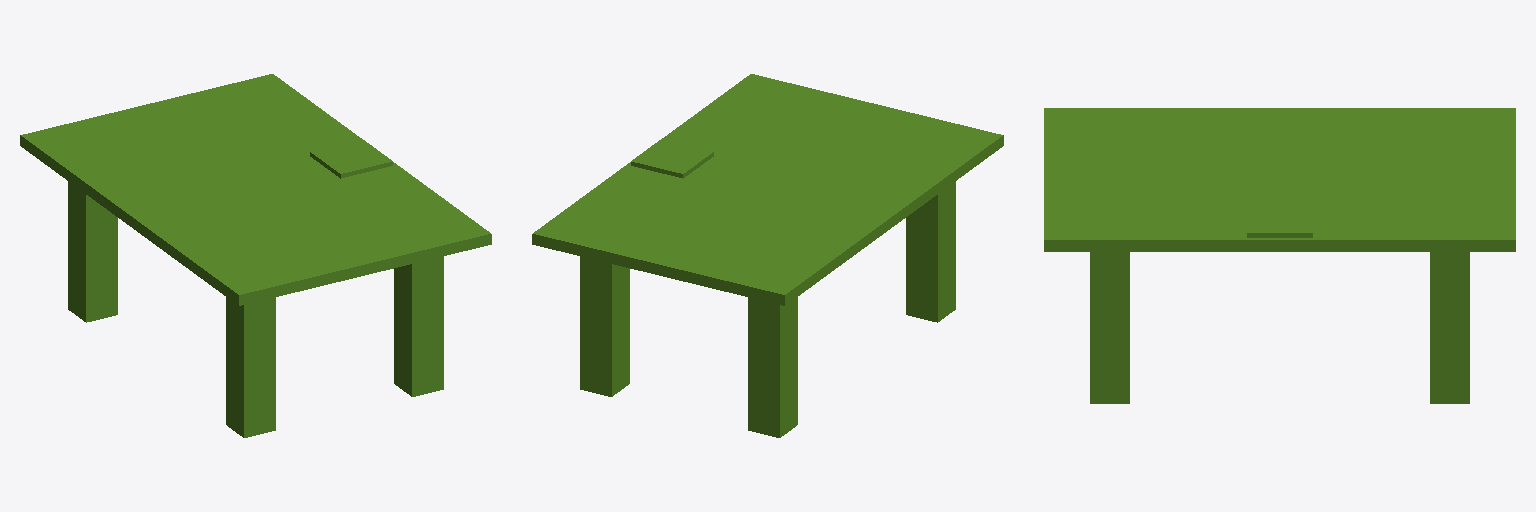
robot.urdf — robot_optical_table_hong:
<?xml version="1.0" encoding="utf-8"?>
<!-- This URDF was automatically created by SolidWorks to URDF Exporter! Originally created by [author] ([email redacted])
     Commit Version: 1.5.1-0-g916b5db  Build Version: 1.5.7152.31018
     For more information, please see http://wiki.ros.org/sw_urdf_exporter -->
<robot
  name="robot_optical_table_hong">

  <link
    name="robot_optical_table_hong">
    <inertial>
      <origin
        xyz="0 0 0.7"
        rpy="0 0 1.5707963267949" />
      <mass
        value="171" />
      <inertia
        ixx="31.349"
        ixy="2.6626E-15"
        ixz="-7.8063E-15"
        iyy="79.054"
        iyz="-1.76902539520067E-15"
        izz="64.086" />
    </inertial>
    <visual>
      <origin
        xyz="0 0 0.7"
        rpy="0 0 1.5707963267949" />
      <geometry>
        <mesh
          filename="package://dual_description/meshes/robot_optical_table.STL" />
      </geometry>
      <material
        name="">
        <color
          rgba="0.4 0.6 0.2 1" />
      </material>
    </visual>
    <collision>
      <origin
        xyz="0 0 0.7"
        rpy="0 0 1.5707963267949" />
      <geometry>
        <mesh
          filename="package://dual_description/meshes/robot_optical_table.STL" />
      </geometry>
    </collision>
  </link>

</robot>

--- Render facts (derived) ---
3 views of the same robot in one strip: view 1: azimuth 30°, elevation 25°; view 2: azimuth 150°, elevation 25°; view 3: azimuth 270°, elevation 25° (orthographic).
Model robot_optical_table_hong with 1 links and 0 joints (none), rooted at robot_optical_table_hong, posed all joints at 0.
Visible links, largest first — view 1: robot_optical_table_hong; view 2: robot_optical_table_hong; view 3: robot_optical_table_hong.
Link boxes in pixels (x1=…): robot_optical_table_hong: x1=20, y1=74, x2=491, y2=437; robot_optical_table_hong: x1=532, y1=74, x2=1003, y2=437; robot_optical_table_hong: x1=1044, y1=108, x2=1515, y2=403.
Bounding box of the posed robot: 1.2 × 1.8 × 0.77 m (x, y, z).
Meshes: 1 distinct files referenced, 1 mesh visuals loaded (1 binary STL).
